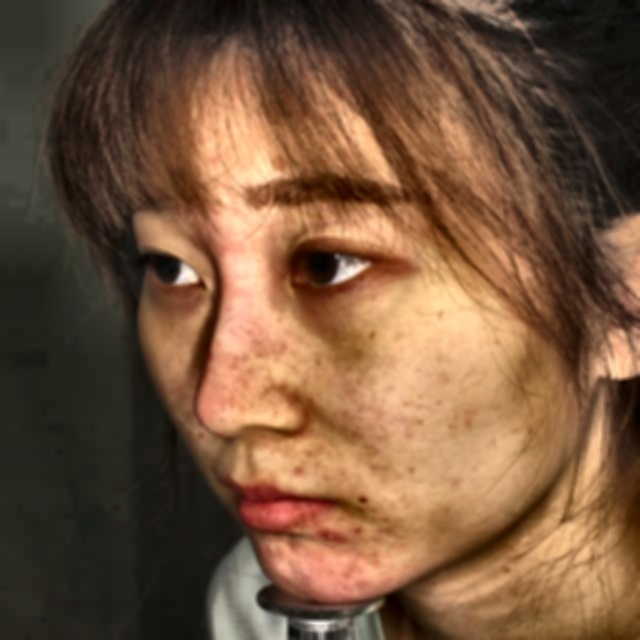comedone: (320, 522, 352, 550)
